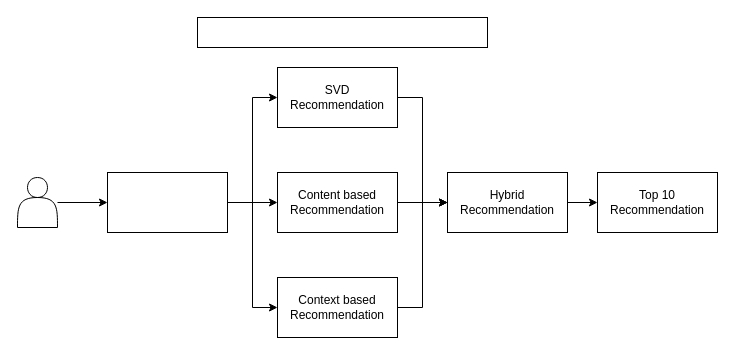
This 735x355 diagram has some shape labels left out. The centre of each missing label's shape, as x and y in pixels:
Course Recommendation System: Prediction Pipeline: [342,32]
Login: [167,202]
